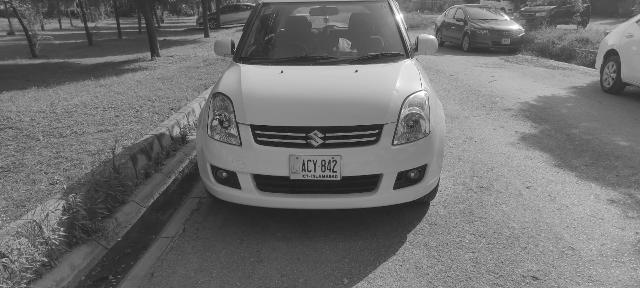Number: (302, 156, 336, 173)
